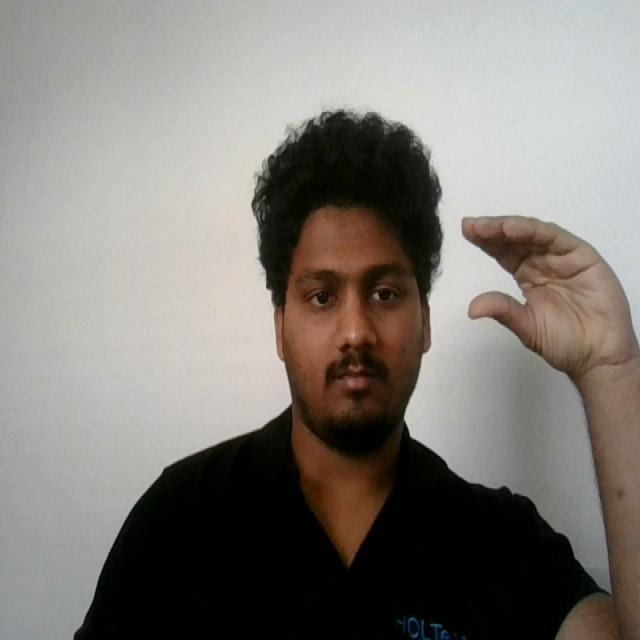No: (454, 207, 640, 392)
